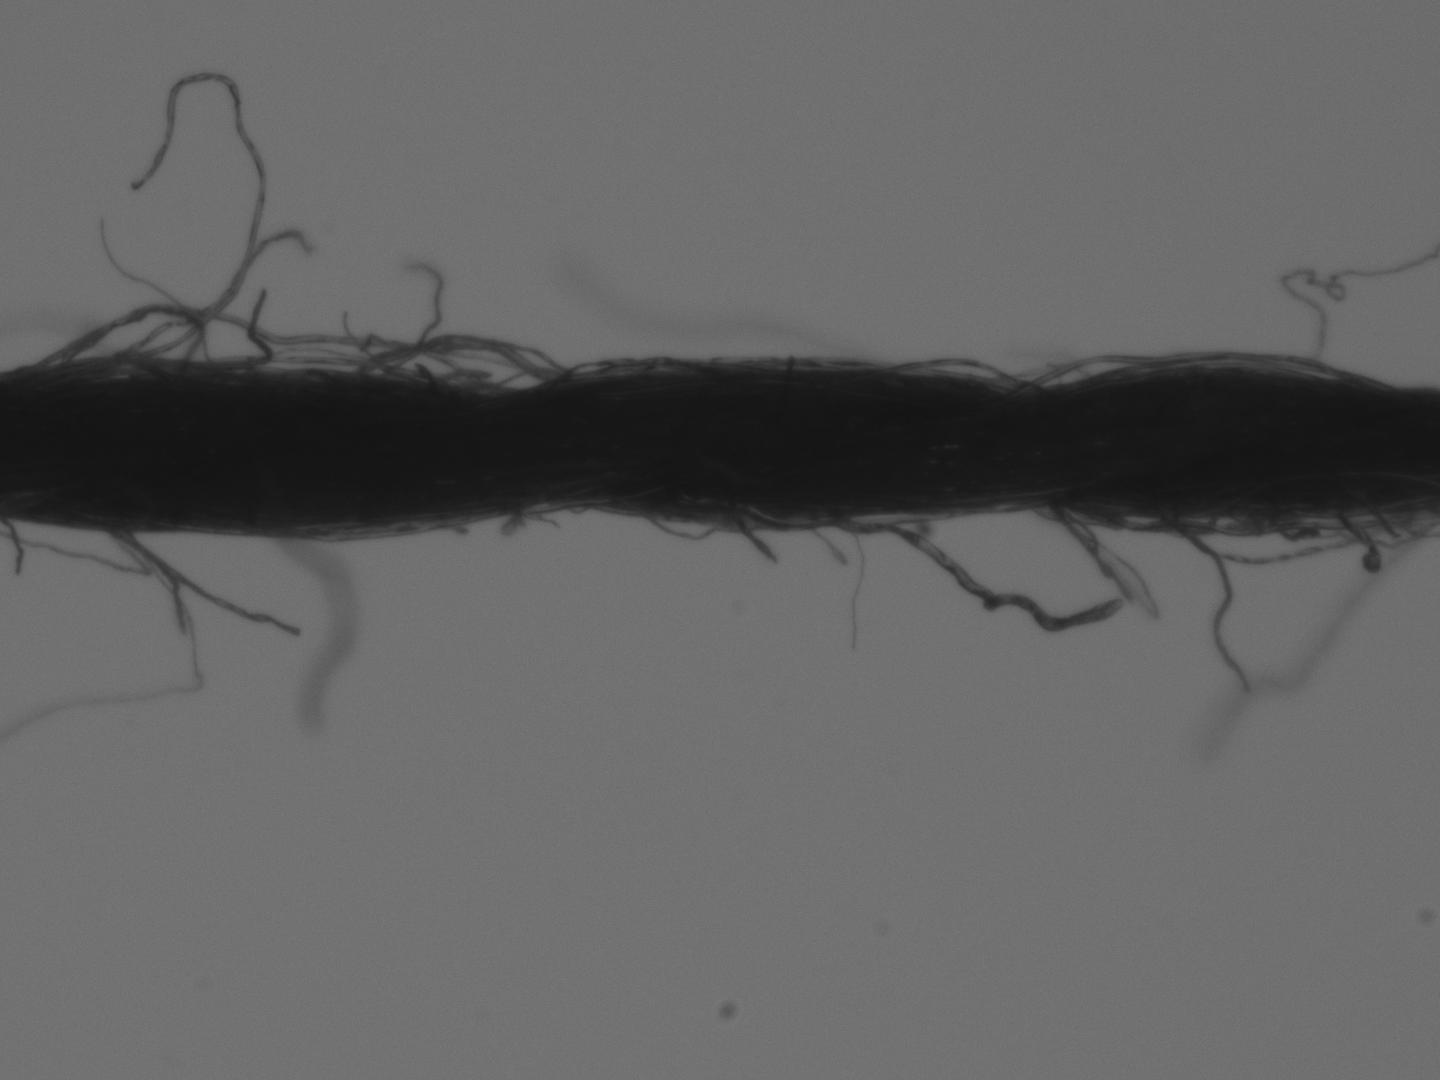loop_fiber: (976, 346, 1400, 404), (1154, 499, 1409, 568), (350, 330, 560, 400), (37, 299, 212, 373), (876, 354, 1018, 380), (644, 515, 726, 543)
protruding_fiber: (824, 512, 1132, 630), (118, 532, 305, 646), (731, 512, 783, 566)
